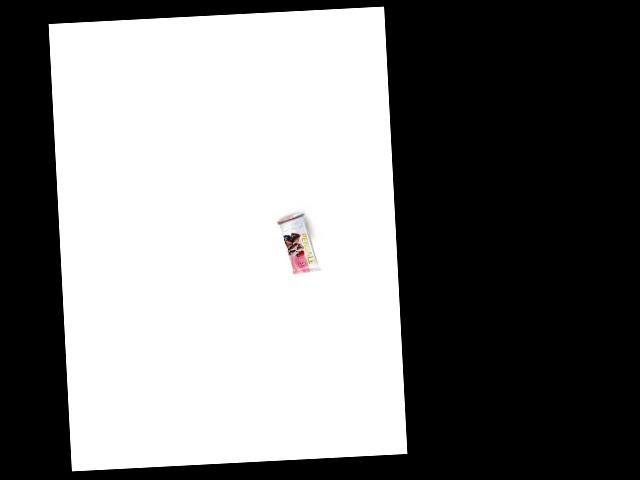chocolate: (275, 214, 320, 274)
